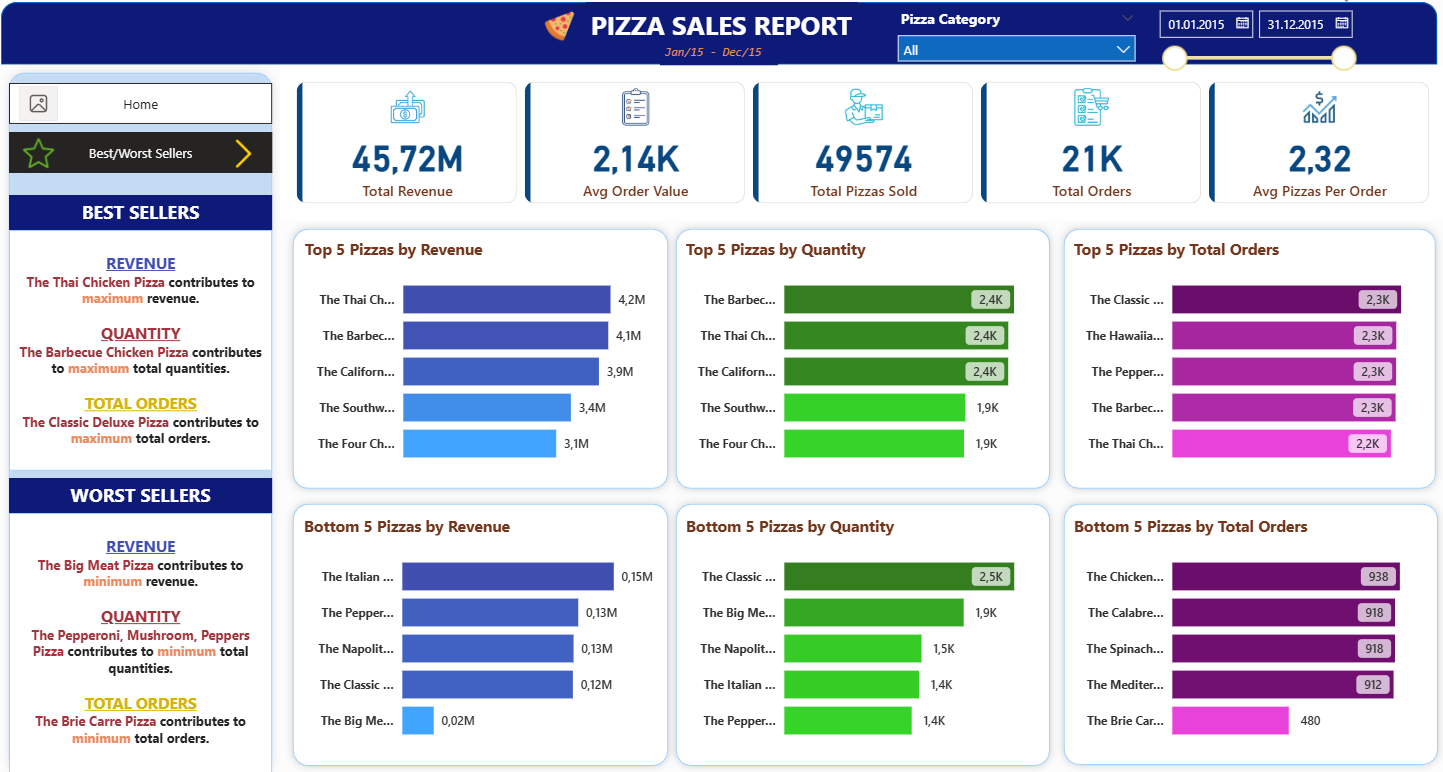

Layout of this report page (visuals, bound fields, positions):
{"tool":"powerbi","page":{"name":"Best/Worst Sellers","canvas":[1500,820],"ordinal":1},"visuals":[{"type":"shape","box":[10.3,74.7,286.2,736.8],"z":0},{"type":"cardVisual","fields":{"Data":["pizza_sales.Total Revenue","pizza_sales.Avg Order Value","pizza_sales.Total Pizzas Sold","pizza_sales.Total Orders","pizza_sales.Avg Pizzas Per Order"]},"box":[296.2,74.8,1196.8,159.7],"z":2000},{"type":"shape","box":[10.3,10.3,1473.6,64.4],"z":3000},{"type":"textbox","box":[610,10,278.8,51.2],"z":4000},{"type":"textbox","box":[686.2,46,120.7,28.7],"z":5000},{"type":"image","box":[543.8,20,78.8,31.2],"z":6000},{"type":"shape","box":[301.1,234.5,401.1,282.8],"z":7000},{"type":"textbox","box":[18.4,208,270.1,35.6],"z":8000},{"type":"textbox","box":[18.4,243.7,270.1,247.1],"z":9000},{"type":"textbox","box":[18.4,498.9,270.1,35.6],"z":10000},{"type":"textbox","box":[18.4,534.5,270.1,266.7],"z":11000},{"type":"slicer","fields":{"Values":["pizza_sales.pizza_category"]},"box":[920.7,12.6,264.4,62.1],"z":12000},{"type":"slicer","fields":{"Values":["pizza_sales.order_date"]},"box":[1186.2,0,223,155.2],"z":13000},{"type":"shape","box":[694.3,234.5,400,282.8],"z":14000},{"type":"shape","box":[301.1,517.2,401.1,285.1],"z":15000},{"type":"shape","box":[694.3,517.2,400,285.1],"z":16000},{"type":"shape","box":[1093.1,234.5,397.7,282.8],"z":17000},{"type":"shape","box":[1093.1,517.2,400,283.9],"z":18000},{"type":"barChart","title":"Top 5 Pizzas by Revenue","fields":{"Category":["pizza_sales.pizza_name"],"Y":["pizza_sales.Total Revenue"]},"box":[317.2,252.9,371.3,246],"z":19000},{"type":"barChart","title":"Bottom 5 Pizzas by Revenue","fields":{"Category":["pizza_sales.pizza_name"],"Y":["pizza_sales.Total Revenue"]},"box":[316.1,536.8,371.3,246],"z":20000},{"type":"barChart","title":"Top 5 Pizzas by Quantity","fields":{"Category":["pizza_sales.pizza_name"],"Y":["pizza_sales.Total Pizzas Sold"]},"box":[708,252.9,371.3,246],"z":21000},{"type":"barChart","title":"Bottom 5 Pizzas by Quantity","fields":{"Category":["pizza_sales.pizza_name"],"Y":["pizza_sales.Total Pizzas Sold"]},"box":[708,536.8,371.3,246],"z":22000},{"type":"barChart","title":"Top 5 Pizzas by Total Orders","fields":{"Category":["pizza_sales.pizza_name"],"Y":["pizza_sales.Total Orders"]},"box":[1105.7,252.9,371.3,246],"z":23000},{"type":"barChart","title":"Bottom 5 Pizzas by Total Orders","fields":{"Category":["pizza_sales.pizza_name"],"Y":["pizza_sales.Total Orders"]},"box":[1105.7,536.8,371.3,246],"z":24000},{"type":"pageNavigator","box":[18.4,93.1,270.1,42.5],"z":25000},{"type":"pageNavigator","box":[18.4,143.7,270.1,42.5],"z":26000},{"type":"image","box":[241.4,150.6,35.6,29.9],"z":27000},{"type":"image","box":[28.7,96.6,40.2,35.6],"z":28000},{"type":"image","box":[33.3,132.2,32.2,65.5],"z":29000}]}

Visuals, with their boxes in screenshot pixels (x1, y1, x2, y2), scaled from the page's 1500x820 canvas onto the 1443x772 screenshot:
shape: (x1=10, y1=70, x2=285, y2=764)
cardVisual - pizza_sales.Total Revenue x pizza_sales.Avg Order Value: (x1=285, y1=70, x2=1436, y2=221)
shape: (x1=10, y1=10, x2=1428, y2=70)
textbox: (x1=587, y1=9, x2=855, y2=58)
textbox: (x1=660, y1=43, x2=776, y2=70)
image: (x1=523, y1=19, x2=599, y2=48)
shape: (x1=290, y1=221, x2=676, y2=487)
textbox: (x1=18, y1=196, x2=278, y2=229)
textbox: (x1=18, y1=229, x2=278, y2=462)
textbox: (x1=18, y1=470, x2=278, y2=503)
textbox: (x1=18, y1=503, x2=278, y2=754)
slicer - pizza_sales.pizza_category: (x1=886, y1=12, x2=1140, y2=70)
slicer - pizza_sales.order_date: (x1=1141, y1=0, x2=1356, y2=146)
shape: (x1=668, y1=221, x2=1053, y2=487)
shape: (x1=290, y1=487, x2=676, y2=755)
shape: (x1=668, y1=487, x2=1053, y2=755)
shape: (x1=1052, y1=221, x2=1434, y2=487)
shape: (x1=1052, y1=487, x2=1436, y2=754)
"Top 5 Pizzas by Revenue" barChart: (x1=305, y1=238, x2=662, y2=470)
"Bottom 5 Pizzas by Revenue" barChart: (x1=304, y1=505, x2=661, y2=737)
"Top 5 Pizzas by Quantity" barChart: (x1=681, y1=238, x2=1038, y2=470)
"Bottom 5 Pizzas by Quantity" barChart: (x1=681, y1=505, x2=1038, y2=737)
"Top 5 Pizzas by Total Orders" barChart: (x1=1064, y1=238, x2=1421, y2=470)
"Bottom 5 Pizzas by Total Orders" barChart: (x1=1064, y1=505, x2=1421, y2=737)
pageNavigator: (x1=18, y1=88, x2=278, y2=128)
pageNavigator: (x1=18, y1=135, x2=278, y2=175)
image: (x1=232, y1=142, x2=266, y2=170)
image: (x1=28, y1=91, x2=66, y2=124)
image: (x1=32, y1=124, x2=63, y2=186)
